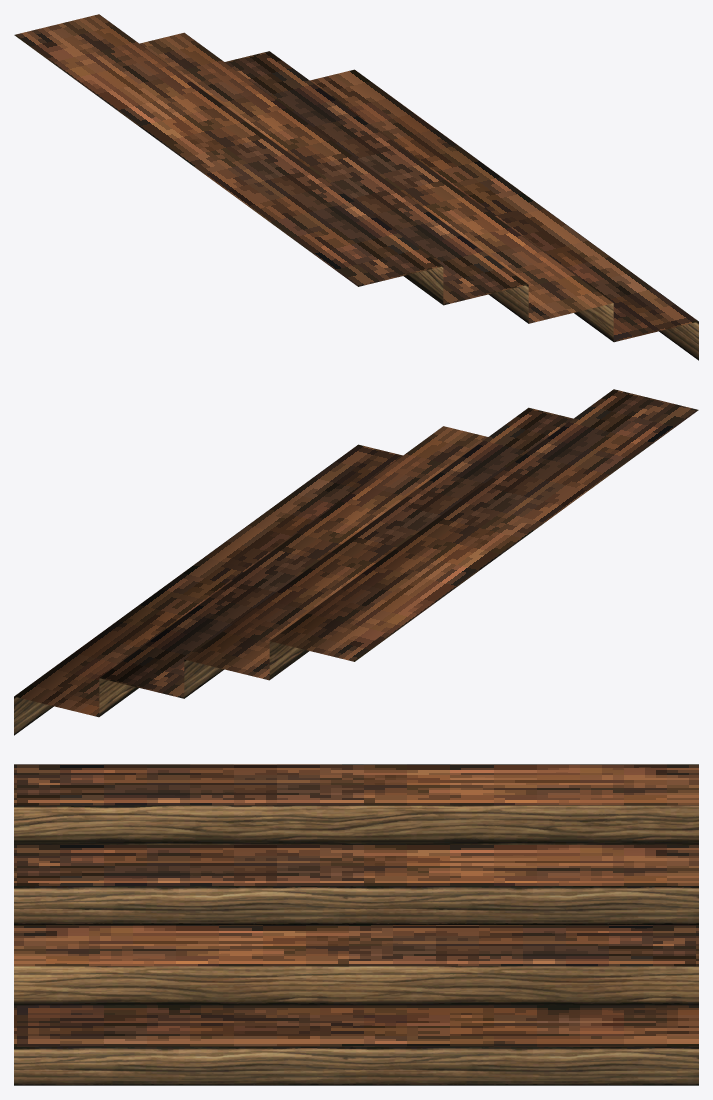
Rendered from LAKETOWN_EXTERIOR_PS_LT_STEP_12.obj.
3 renders of one model, top to bottom at view 1: azimuth 30°, elevation 25°; view 2: azimuth 150°, elevation 25°; view 3: azimuth 270°, elevation 25°, orthographic.
Parts seen in each view (by area): view 1: LT_Step_12; view 2: LT_Step_12; view 3: LT_Step_12.
Boxes of the visible parts, bbox=[...] form: LT_Step_12: bbox=[14, 14, 698, 360]; LT_Step_12: bbox=[14, 389, 698, 735]; LT_Step_12: bbox=[14, 764, 698, 1085].
Bounding box in the file's own units: 200 × 88.04 × 350.
